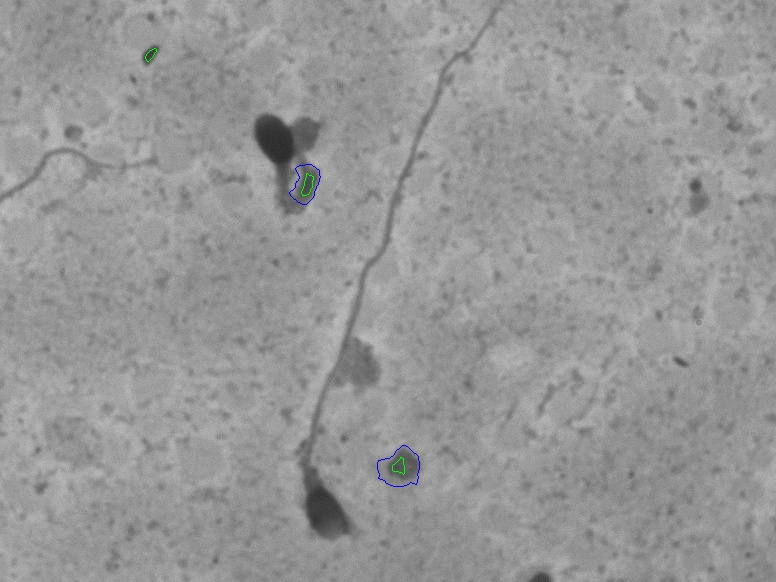Abnormal: (219, 94, 332, 228)
Normal: (265, 10, 505, 568)
